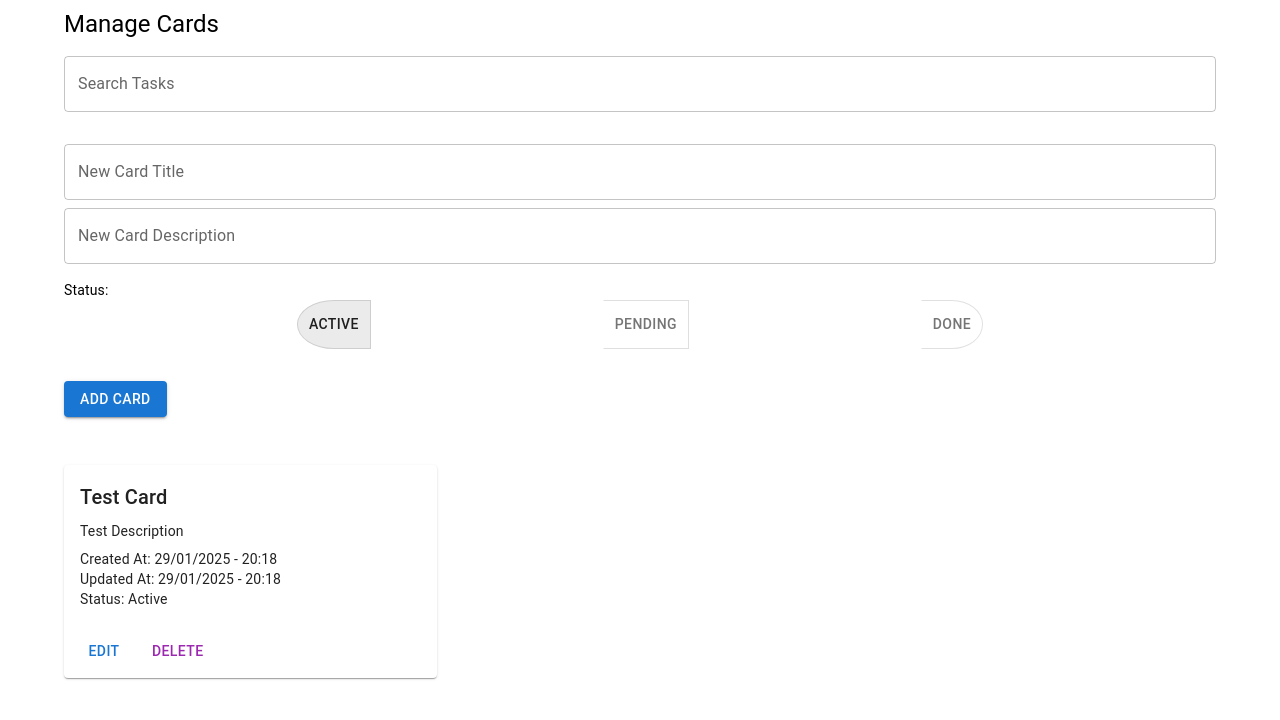
Test: ReusableCardForm › handles deleting a card
// Click the 'Delete' button
Click the button "Delete": coordinates (178, 651) [144,633,212,670]
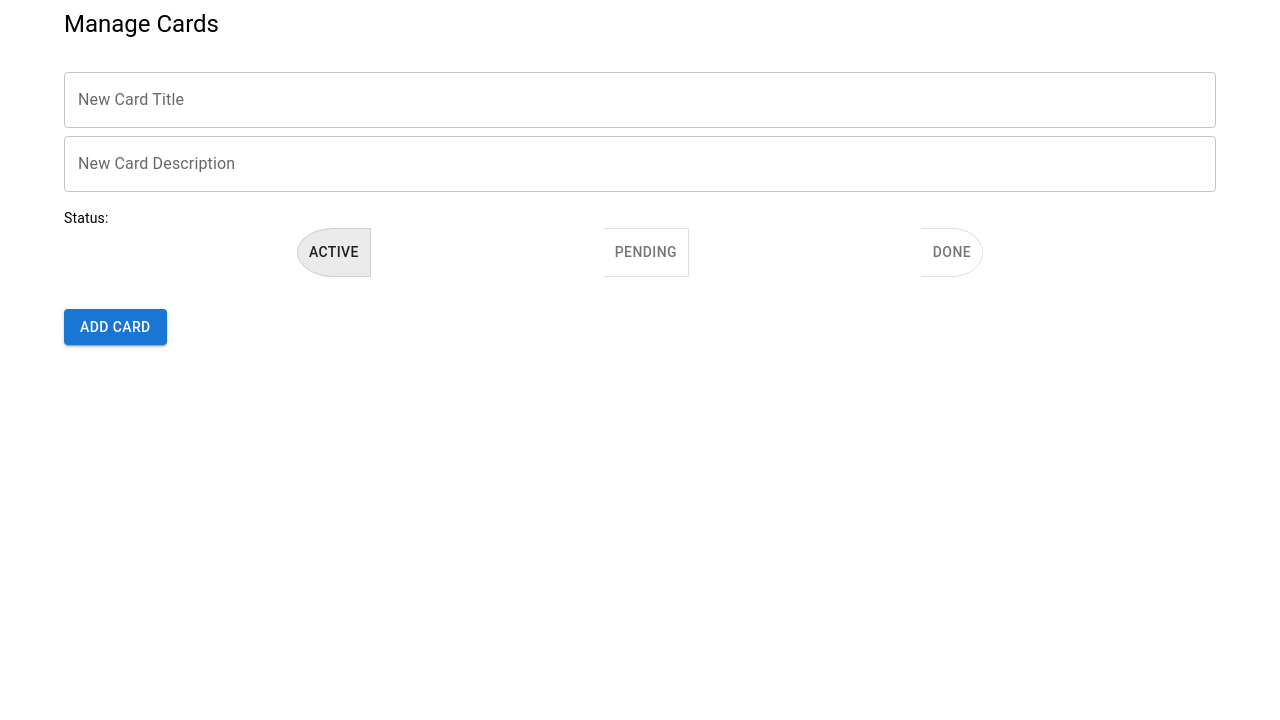
Expected: the heading "Test Card" is gone
